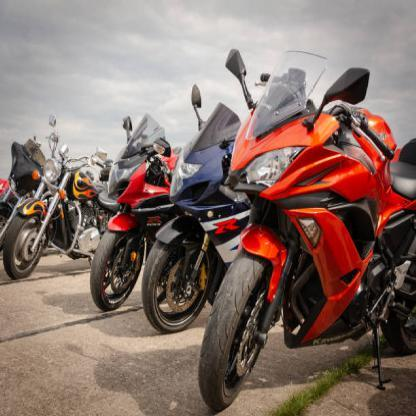Motorcycle: (213, 64, 415, 415), (144, 72, 243, 330)
